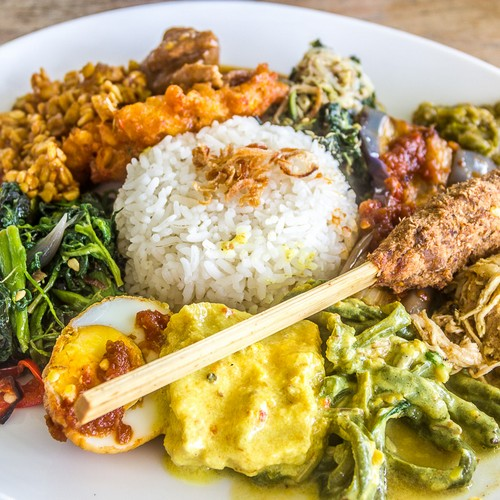lawar: (9, 67, 108, 295)
